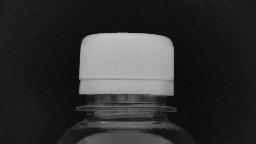Loose Cap: (66, 74, 182, 116)
